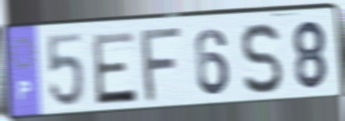5: (45, 30, 87, 112)
6: (193, 27, 233, 97)
8: (292, 18, 330, 92)
E: (90, 29, 140, 108)
F: (140, 25, 186, 106)
S: (240, 21, 285, 97)
